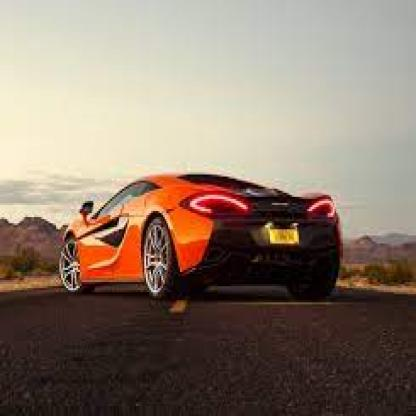car: (55, 171, 344, 296)
